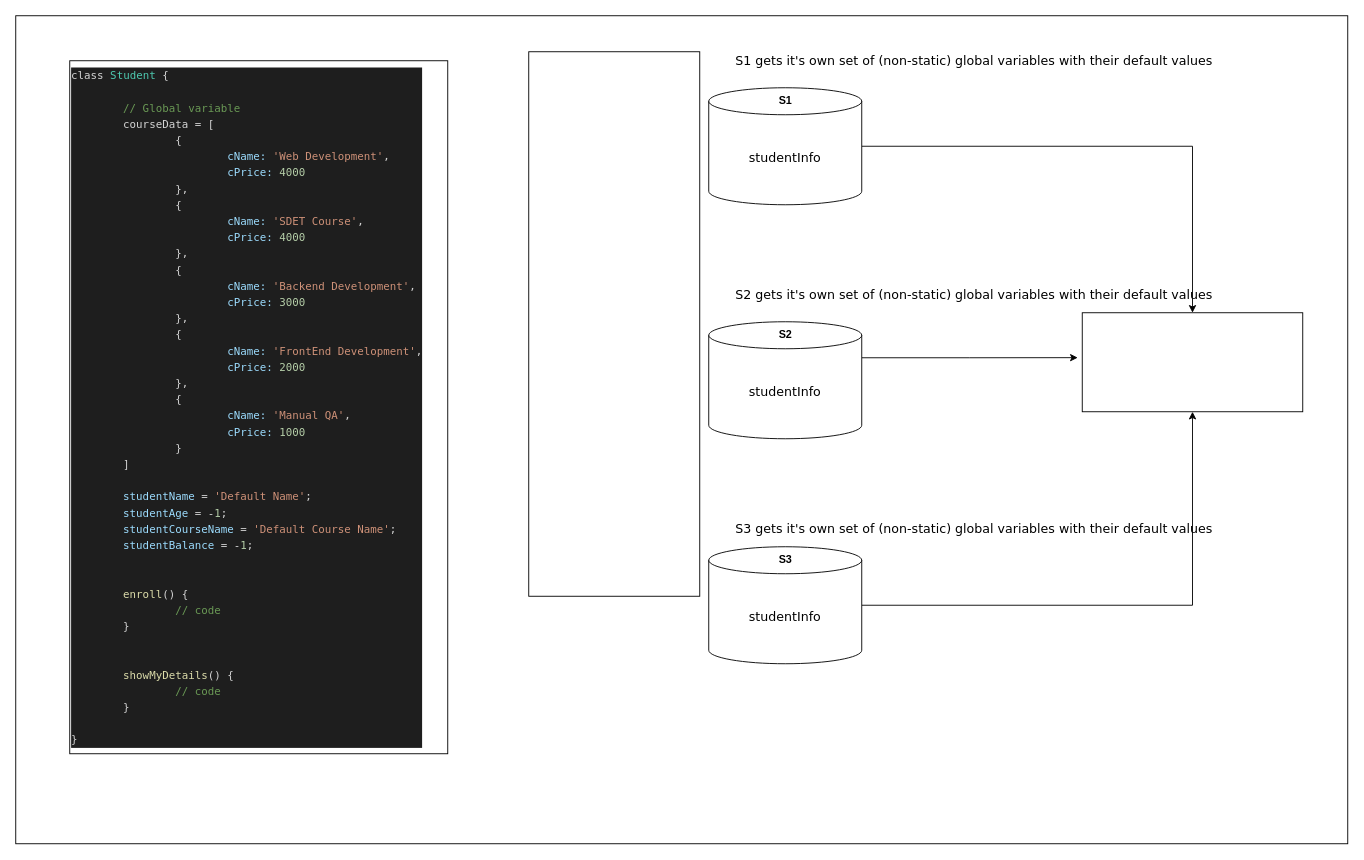
The diagram is 1364 pixels wide and 860 high, and some of its shapes have lost their labels. Here are the shapes that lost their labels. From the top down, the centre of each, then its label:
At point 614,323: "const s1 = new Student (); const s2 = new Student (); const s3 = new Student ();".
At point 1192,362: "Student-Class studentIdCounter courseData msgFromClass2023()".
